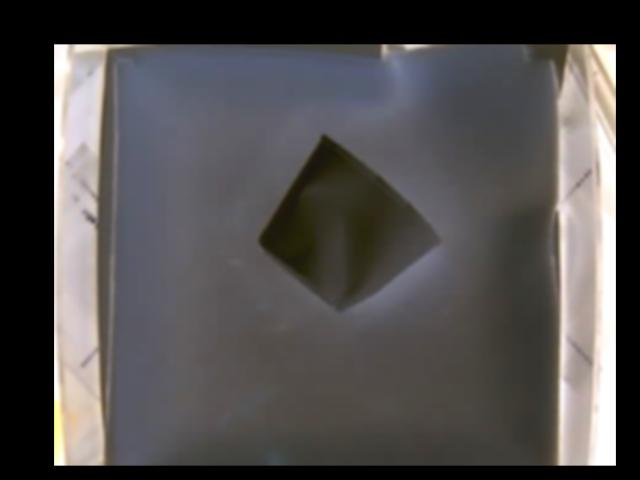Cup: (262, 135, 442, 313)
